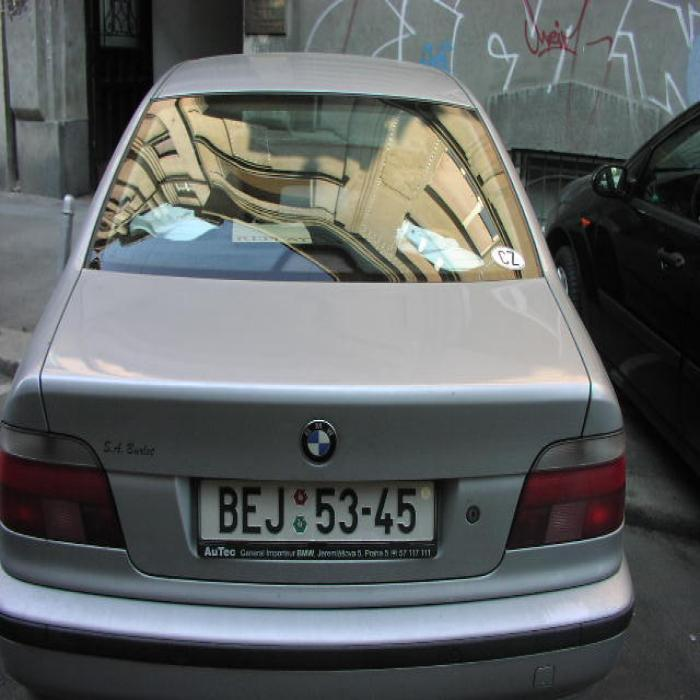number_plate: (197, 477, 433, 538)
